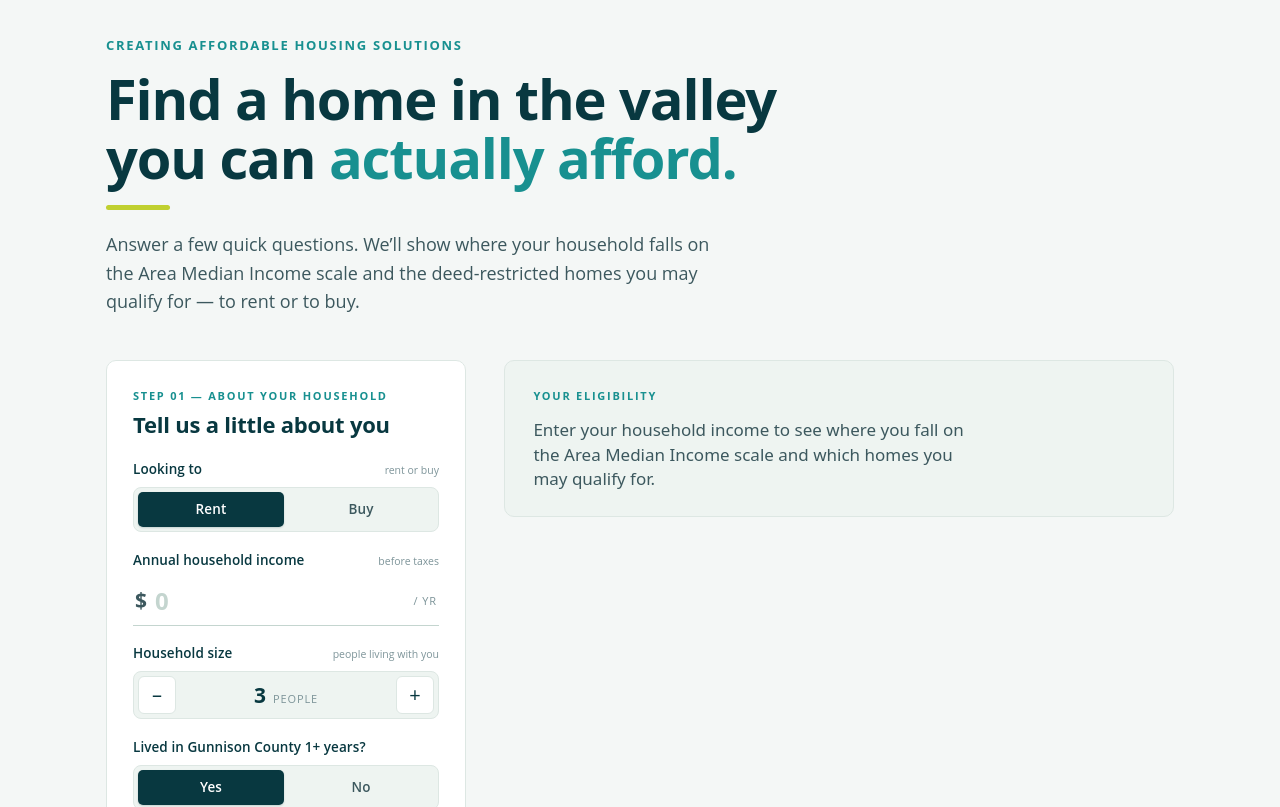
Test case: Calculator form › displays the empty state when no listings match
Type "60000" into the field labelled "Annual household income before taxes".
click(280, 600); type("60000")  # box [155,584,406,617]
(page scrolled)
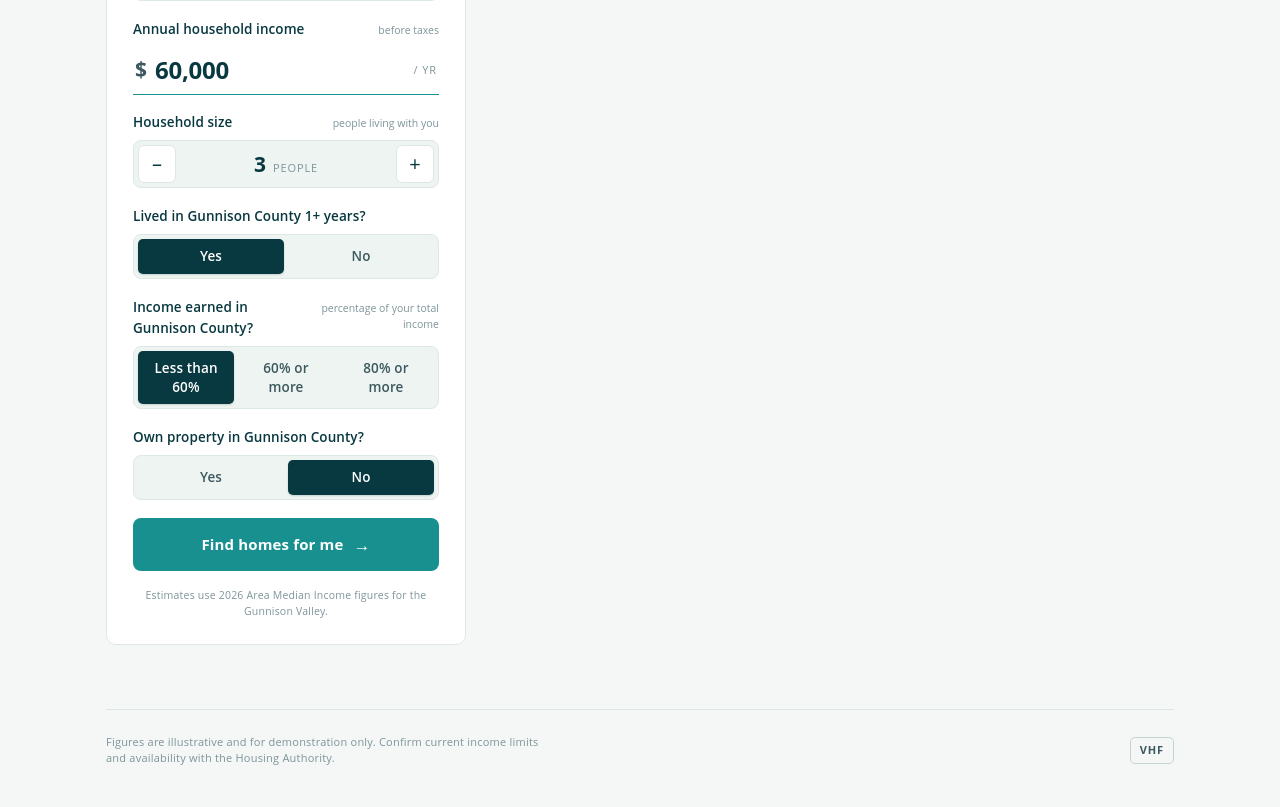
Click the button "Find homes for me →".
click(286, 544)  # box [133,518,439,571]
(page scrolled)
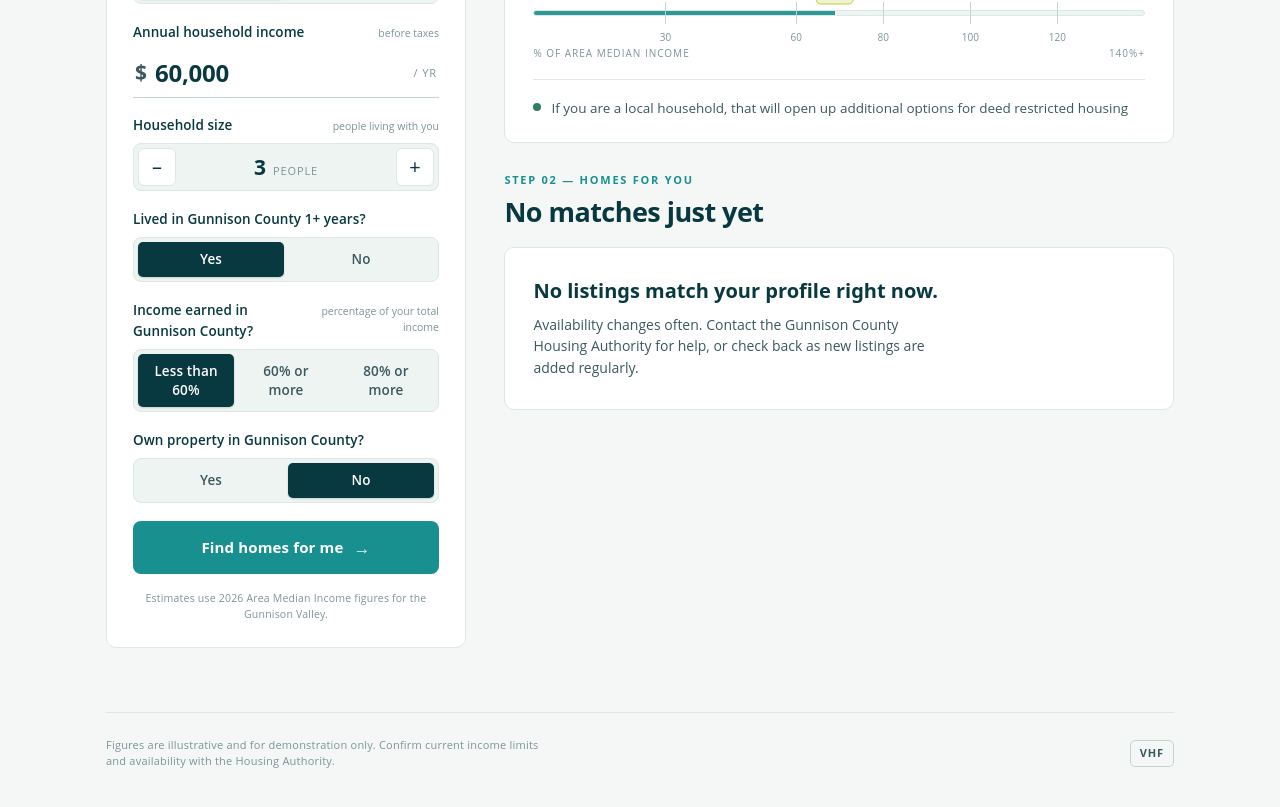
Expected: the text "No listings match your profile right now." is shown, [533,277,938,304]
Expected: the text "Gunnison County Housing Authority" is shown, [533,315,925,377]
